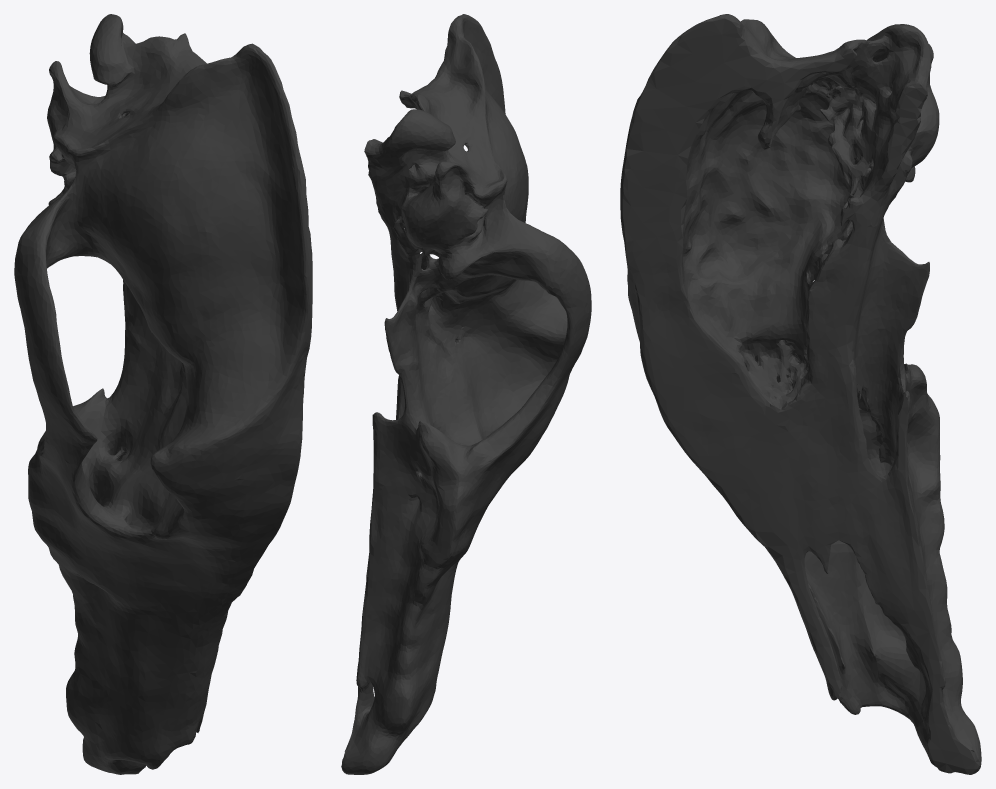
The model's file is MAXILLA.glb.
The picture shows the model from 3 angles, left to right: view 1: azimuth 30°, elevation 25°; view 2: azimuth 150°, elevation 25°; view 3: azimuth 270°, elevation 25°; orthographic projection. The views are drawn at different scales.
Parts seen in each view (by area): view 1: MAXILLA; view 2: MAXILLA; view 3: MAXILLA.
Part boxes in pixels (x1,y1,x2,y2): MAXILLA: (14, 14, 312, 774); MAXILLA: (341, 14, 591, 774); MAXILLA: (620, 14, 981, 774).
Bounding box in the file's own units: 0.5385 × 2.18 × 0.9402.
Materials: 1 (1 with a texture image).
